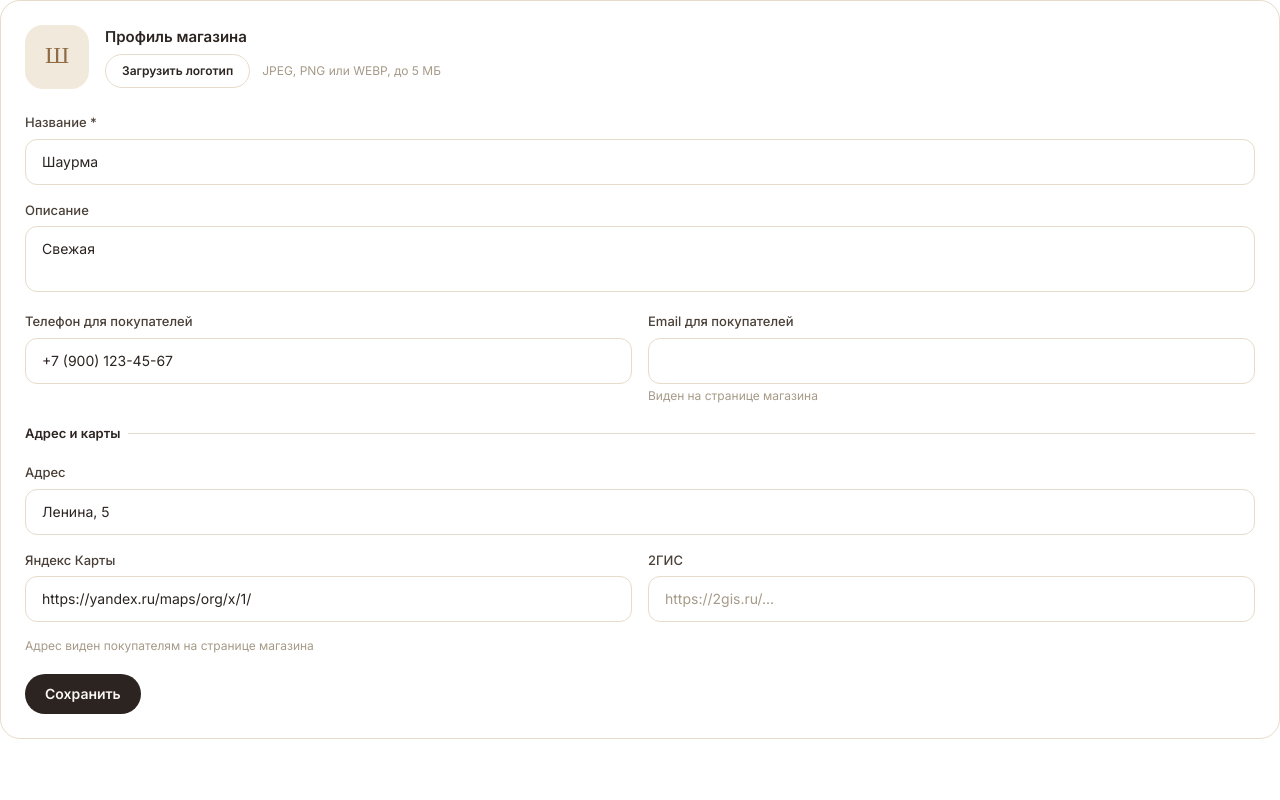
Scenario: ShopProfileSection — ARCHITECTURE_CYCLE26.md §552 › invalidates shop, my-shops and storefront after a successful save
The image size is (1280, 800).
Click the button "Сохранить" at (83, 694), box [25, 674, 141, 714]
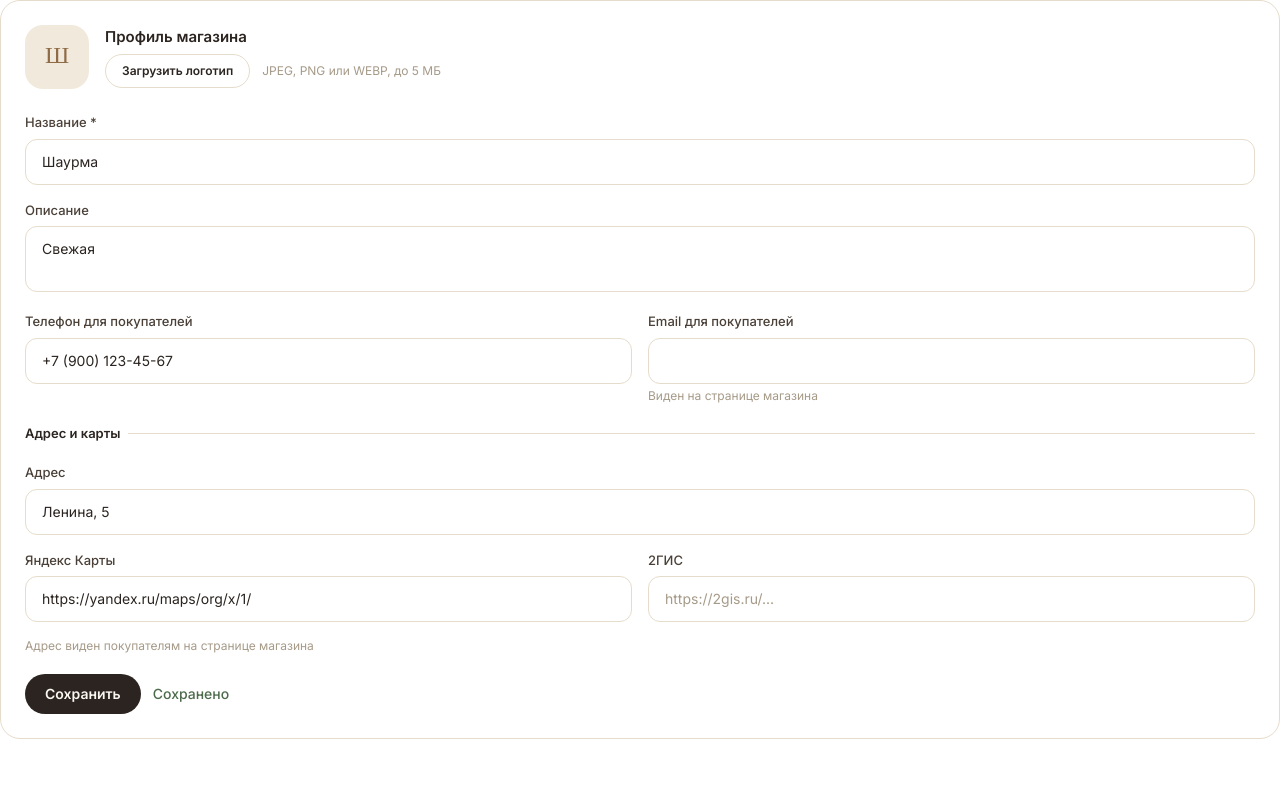
Expected: the message "Сохранено" is shown, [153, 684, 229, 704]
